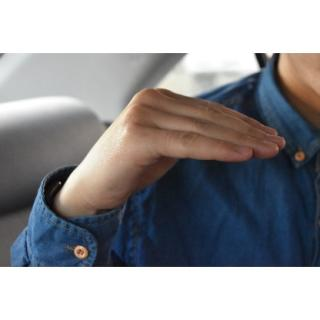HAA: (55, 82, 288, 214)
